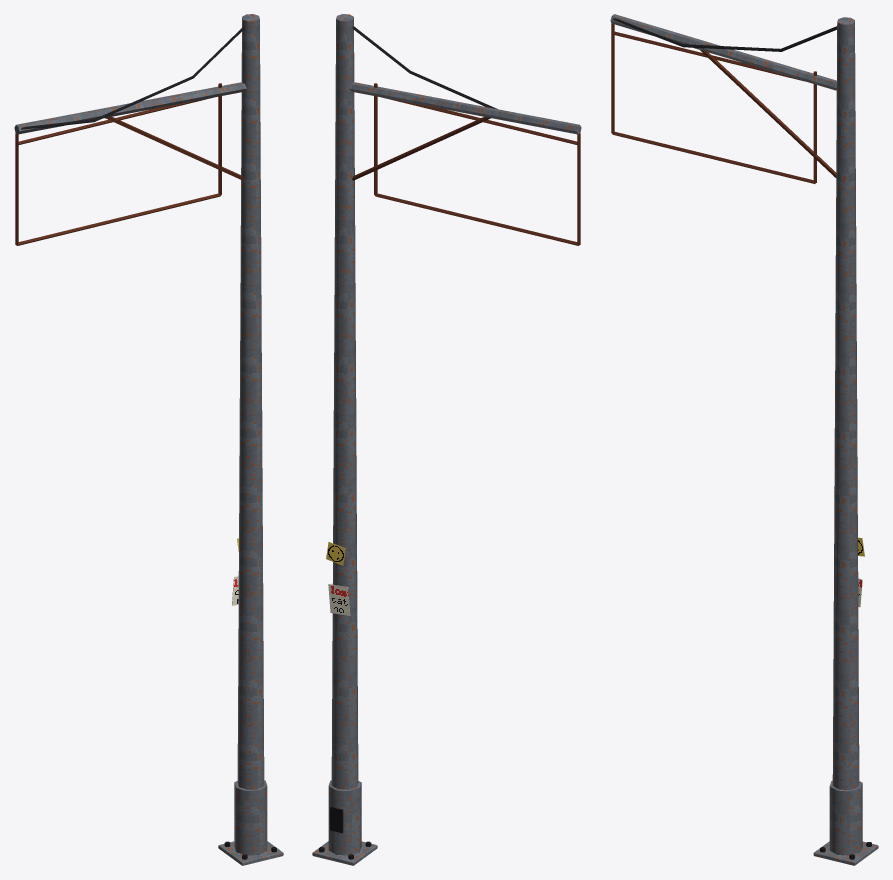
Rendered from s_longpole.glb.
The picture shows the model from 3 angles, left to right: view 1: azimuth 30°, elevation 25°; view 2: azimuth 150°, elevation 25°; view 3: azimuth 330°, elevation 25°; orthographic projection.
Parts seen in each view (by area): view 1: s_longpole_mesh; view 2: s_longpole_mesh; view 3: s_longpole_mesh.
Part boxes in pixels (<box>): s_longpole_mesh: <box>14,14,283,865</box>; s_longpole_mesh: <box>312,14,581,865</box>; s_longpole_mesh: <box>610,14,878,865</box>.
Size of what is drawn, in the model's own units: 2.08 by 6.48 by 0.34.
Materials: 4 (4 with a texture image).
